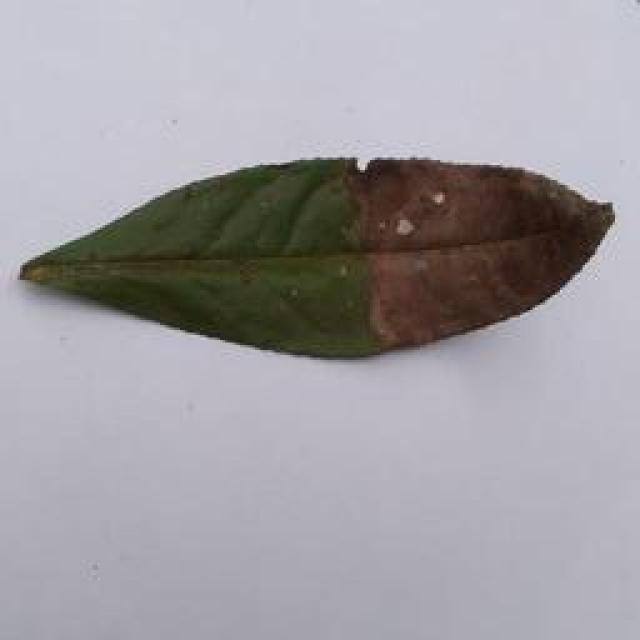Brown Blight: (0, 147, 630, 355)
